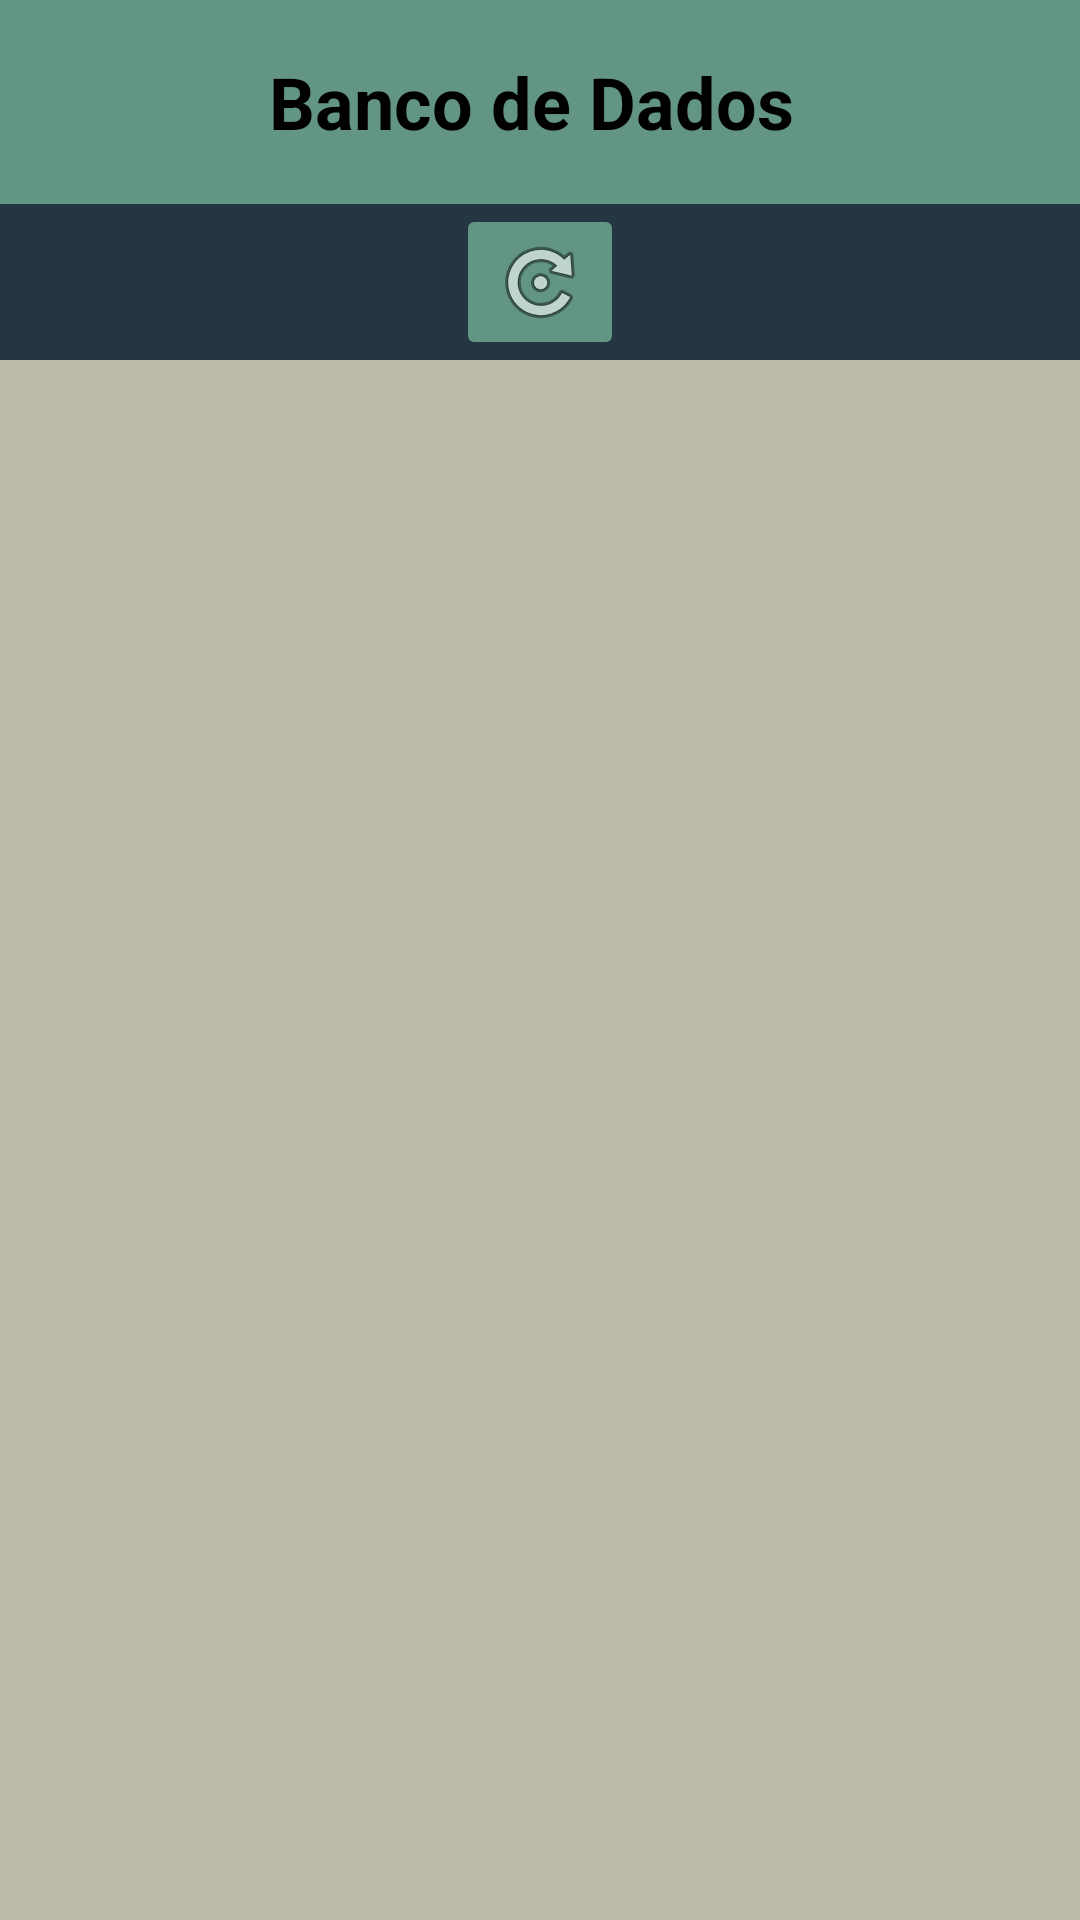

Named icons in this screenshot (1080px x 1920px) and their bounding boxes, (x1, y1, x2, y2):
rotate: (468, 222, 612, 342)
